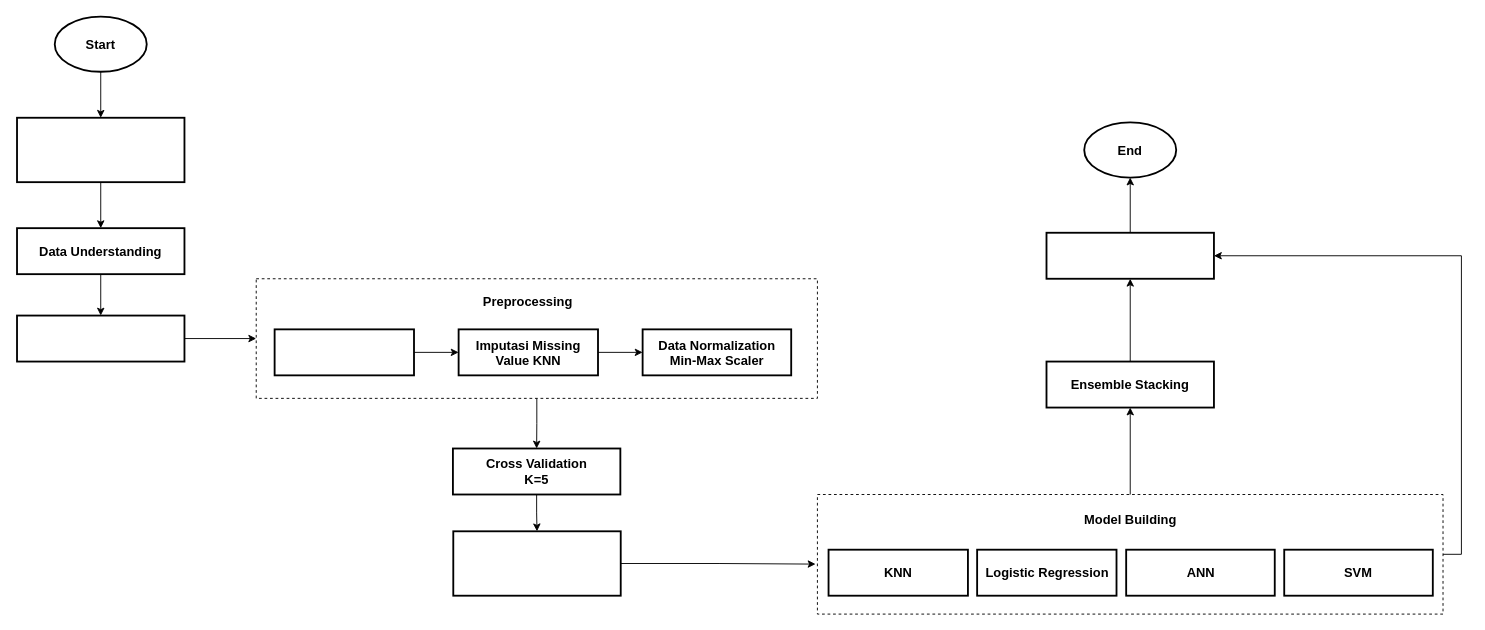
This 1485x630 diagram has some shape labels left out. The centre of each missing label's shape, as x and y in pixels:
"Data Distribution" belongs at point 100,338.
"Data Transormation" belongs at point 343,352.
"Evaluasi" belongs at point 1129,255.
"Hyperaparameter Tuning (GridSearhCv)" belongs at point 536,563.
"Pengumpulan Data Rawat Inap Pasien Demam Berdarah" belongs at point 100,149.
